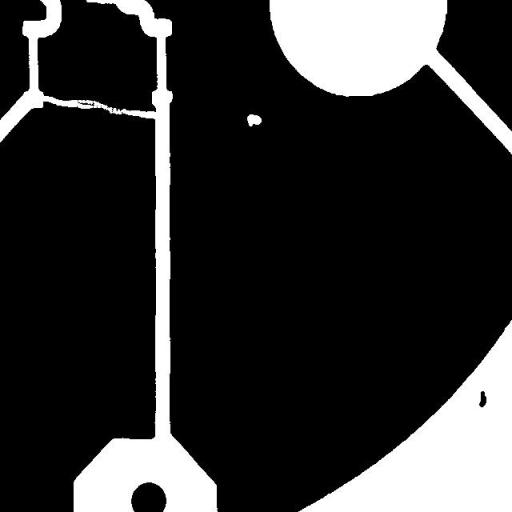copper: (471, 384, 494, 414)
open: (34, 88, 167, 126)
pin-hole: (239, 106, 269, 134)
